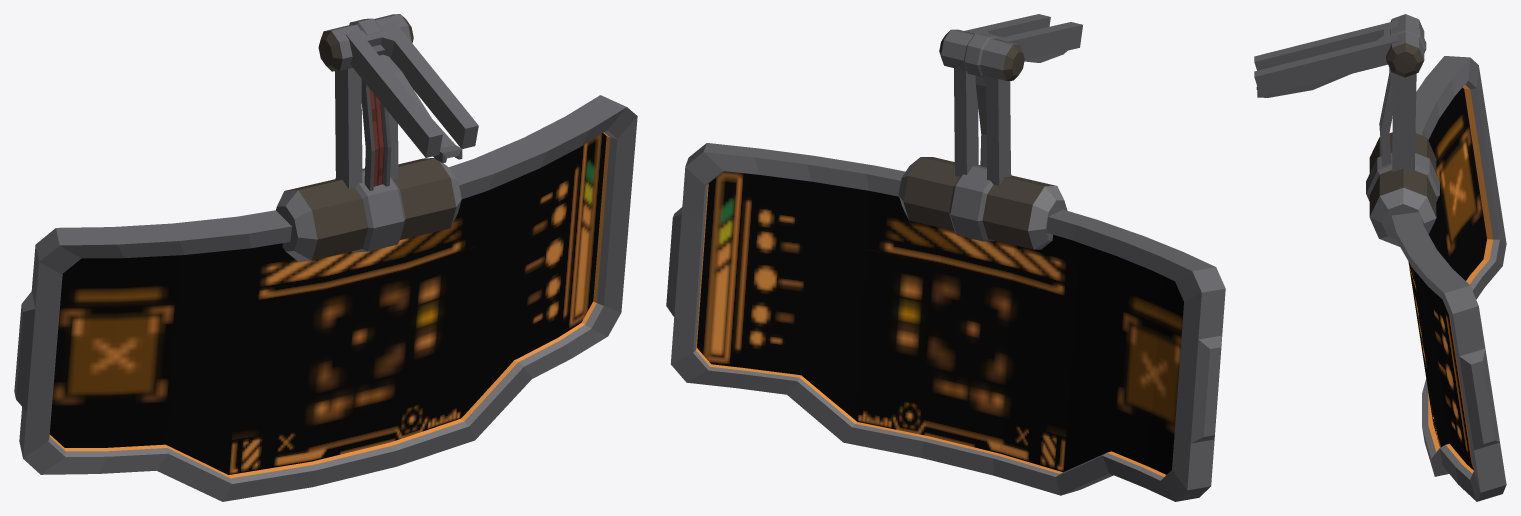
The model's file is SM_Mech_Cockpit_01_Monitor_01.fbx.
3 views of the same model, side by side, from view 1: azimuth 30°, elevation 25°; view 2: azimuth 150°, elevation 25°; view 3: azimuth 270°, elevation 25° (orthographic). The views are drawn at different scales.
Parts seen in each view (by area): view 1: SM_Mech_Cockpit_01_Monitor_01_Screen, SM_Mech_Cockpit_01_Monitor_01; view 2: SM_Mech_Cockpit_01_Monitor_01_Screen, SM_Mech_Cockpit_01_Monitor_01; view 3: SM_Mech_Cockpit_01_Monitor_01, SM_Mech_Cockpit_01_Monitor_01_Screen.
Boxes of the visible parts, bbox=[...] form: SM_Mech_Cockpit_01_Monitor_01_Screen: bbox=[49, 133, 606, 474]; SM_Mech_Cockpit_01_Monitor_01: bbox=[14, 14, 637, 501]; SM_Mech_Cockpit_01_Monitor_01_Screen: bbox=[697, 171, 1183, 474]; SM_Mech_Cockpit_01_Monitor_01: bbox=[666, 14, 1225, 501]; SM_Mech_Cockpit_01_Monitor_01: bbox=[1254, 14, 1506, 501]; SM_Mech_Cockpit_01_Monitor_01_Screen: bbox=[1408, 87, 1486, 470].
Bounding box in the file's own units: 53.4 × 38.93 × 22.32.
